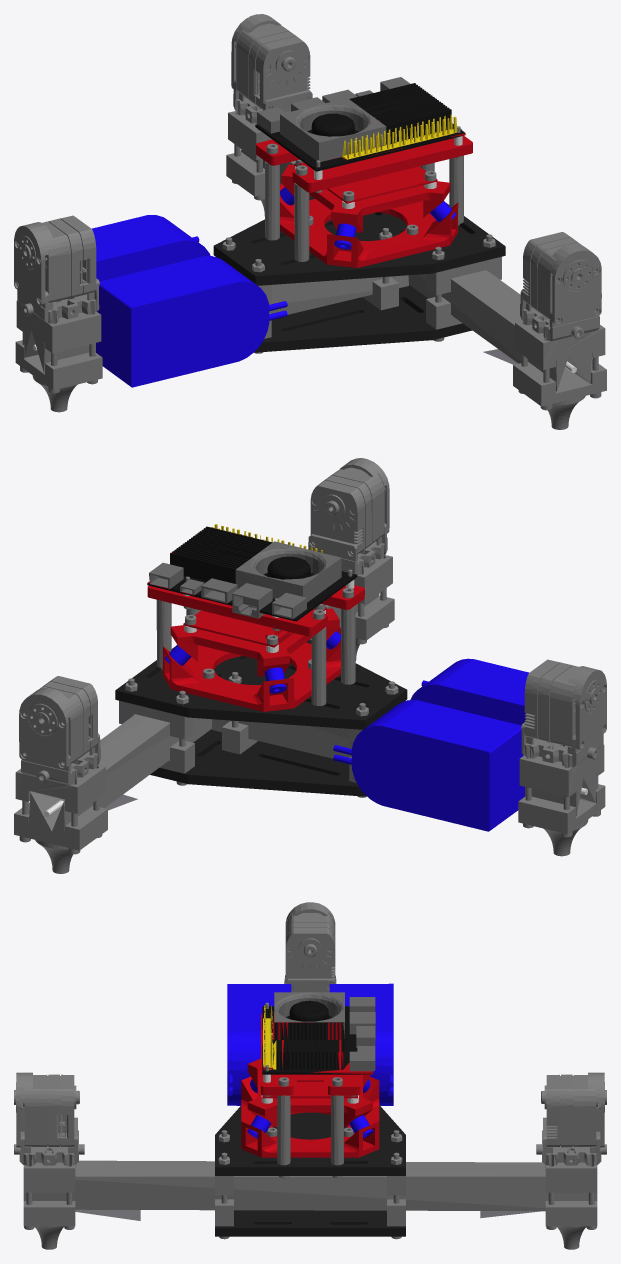
File: trirotor_base_link.dae
3 views of the same model, one above another, from view 1: azimuth 30°, elevation 25°; view 2: azimuth 150°, elevation 25°; view 3: azimuth 270°, elevation 25° (orthographic). The views are drawn at different scales.
Visible parts, largest first — view 1: Base_link_trirotor_se - Turnigy_LiPo_6s_1300mAh-3, Base_link_trirotor_se - vim4_module-1 VIM4-1, Base_link_trirotor_se - Trirotor_center_plate-3, Base_link_trirotor_se - Trirotor_center_plate-4, Base_link_trirotor_se - Main_shaft-4, Base_link_trirotor_se - spinal_module-1 spinal_mount_base-1, Base_link_trirotor_se - Turnigy_LiPo_6s_1300mAh-1, Base_link_trirotor_se - Servo_with_joint_base-1 KRS3300_scal, Base_link_trirotor_se - Servo_with_joint_base-5 KRS3300_scal, Base_link_trirotor_se - Main_shaft-5, Base_link_trirotor_se - vim4_module-1 Vim4_mount_left-1, Base_link_trirotor_se - Servo_with_joint_base-5 Main_shaft_ (+22 smaller); view 2: Base_link_trirotor_se - Turnigy_LiPo_6s_1300mAh-1, Base_link_trirotor_se - vim4_module-1 VIM4-1, Base_link_trirotor_se - Trirotor_center_plate-3, Base_link_trirotor_se - Trirotor_center_plate-4, Base_link_trirotor_se - Main_shaft-4, Base_link_trirotor_se - spinal_module-1 spinal_mount_base-1, Base_link_trirotor_se - Turnigy_LiPo_6s_1300mAh-3, Base_link_trirotor_se - Servo_with_joint_base-4 KRS3300_scal, Base_link_trirotor_se - Servo_with_joint_base-5 KRS3300_scal, Base_link_trirotor_se - Main_shaft-5, Base_link_trirotor_se - Servo_with_joint_base-5 Main_shaft_, Base_link_trirotor_se - spinal_module-1 spinal_base-1 (+22 smaller); view 3: Base_link_trirotor_se - Main_shaft-4, Base_link_trirotor_se - vim4_module-1 VIM4-1, Base_link_trirotor_se - Trirotor_center_plate-3, Base_link_trirotor_se - Trirotor_center_plate-4, Base_link_trirotor_se - Turnigy_LiPo_6s_1300mAh-3, Base_link_trirotor_se - spinal_module-1 spinal_mount_base-1, Base_link_trirotor_se - Servo_with_joint_base-1 KRS3300_scal, Base_link_trirotor_se - Servo_with_joint_base-4 KRS3300_scal, Base_link_trirotor_se - Servo_with_joint_base-5 KRS3300_scal, Base_link_trirotor_se - Turnigy_LiPo_6s_1300mAh-1, Base_link_trirotor_se - Servo_with_joint_base-4 Main_shaft_, Base_link_trirotor_se - Servo_with_joint_base-1 Main_shaft_ (+16 smaller).
Part boxes in pixels (x1,y1,x2,y2): Base_link_trirotor_se - Turnigy_LiPo_6s_1300mAh-3: (96, 256, 287, 387); Base_link_trirotor_se - vim4_module-1 VIM4-1: (255, 77, 465, 171); Base_link_trirotor_se - Trirotor_center_plate-3: (213, 196, 505, 285); Base_link_trirotor_se - Trirotor_center_plate-4: (255, 285, 472, 352); Base_link_trirotor_se - Main_shaft-4: (241, 149, 592, 391); Base_link_trirotor_se - spinal_module-1 spinal_mount_base-1: (280, 183, 458, 267); Base_link_trirotor_se - Turnigy_LiPo_6s_1300mAh-1: (92, 215, 210, 281); Base_link_trirotor_se - Servo_with_joint_base-1 KRS3300_scal: (236, 23, 310, 109); Base_link_trirotor_se - Servo_with_joint_base-5 KRS3300_scal: (25, 215, 96, 302); Base_link_trirotor_se - Main_shaft-5: (24, 275, 408, 372); Base_link_trirotor_se - vim4_module-1 Vim4_mount_left-1: (292, 135, 472, 192); Base_link_trirotor_se - Servo_with_joint_base-5 Main_shaft_: (16, 295, 101, 353); Base_link_trirotor_se - Turnigy_LiPo_6s_1300mAh-1: (333, 700, 524, 831); Base_link_trirotor_se - vim4_module-1 VIM4-1: (147, 524, 357, 621); Base_link_trirotor_se - Trirotor_center_plate-3: (115, 640, 407, 729); Base_link_trirotor_se - Trirotor_center_plate-4: (150, 729, 365, 796); Base_link_trirotor_se - Main_shaft-4: (28, 593, 379, 837); Base_link_trirotor_se - spinal_module-1 spinal_mount_base-1: (163, 627, 340, 711); Base_link_trirotor_se - Turnigy_LiPo_6s_1300mAh-3: (410, 658, 528, 725); Base_link_trirotor_se - Servo_with_joint_base-4 KRS3300_scal: (310, 467, 384, 554); Base_link_trirotor_se - Servo_with_joint_base-5 KRS3300_scal: (524, 659, 595, 746); Base_link_trirotor_se - Main_shaft-5: (212, 719, 596, 816); Base_link_trirotor_se - Servo_with_joint_base-5 Main_shaft_: (519, 739, 604, 797); Base_link_trirotor_se - spinal_module-1 spinal_base-1: (170, 608, 339, 676); Base_link_trirotor_se - Main_shaft-4: (23, 1160, 597, 1211); Base_link_trirotor_se - vim4_module-1 VIM4-1: (262, 992, 375, 1074); Base_link_trirotor_se - Trirotor_center_plate-3: (215, 1105, 405, 1175); Base_link_trirotor_se - Trirotor_center_plate-4: (215, 1210, 405, 1236); Base_link_trirotor_se - Turnigy_LiPo_6s_1300mAh-3: (227, 984, 291, 1105); Base_link_trirotor_se - spinal_module-1 spinal_mount_base-1: (241, 1076, 379, 1157); Base_link_trirotor_se - Servo_with_joint_base-1 KRS3300_scal: (541, 1074, 598, 1147); Base_link_trirotor_se - Servo_with_joint_base-4 KRS3300_scal: (22, 1074, 79, 1147); Base_link_trirotor_se - Servo_with_joint_base-5 KRS3300_scal: (285, 913, 335, 986); Base_link_trirotor_se - Turnigy_LiPo_6s_1300mAh-1: (329, 983, 393, 1105); Base_link_trirotor_se - Servo_with_joint_base-4 Main_shaft_: (23, 1145, 75, 1192); Base_link_trirotor_se - Servo_with_joint_base-1 Main_shaft_: (545, 1145, 597, 1192).
Size of the model in its own units: 235 by 310 by 117.
